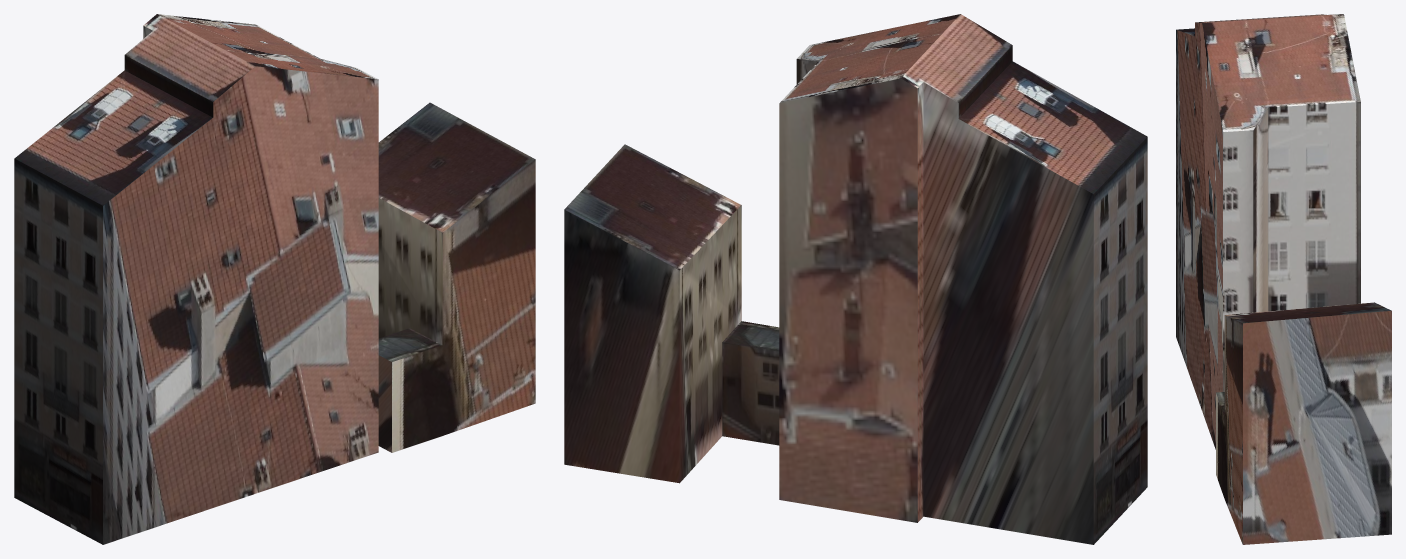
The picture shows the model from 3 angles, left to right: view 1: azimuth 30°, elevation 25°; view 2: azimuth 150°, elevation 25°; view 3: azimuth 270°, elevation 25°; orthographic projection. The views are drawn at different scales.
Visible parts, largest first — view 1: Z_UP; view 2: Z_UP; view 3: Z_UP.
Part boxes in pixels (x1,y1,x2,y2): Z_UP: (14, 14, 535, 544); Z_UP: (564, 14, 1147, 544); Z_UP: (1176, 14, 1391, 544).
Size of the model in its own units: 31.6 by 26.49 by 13.35.
2 materials, 1 textured.
